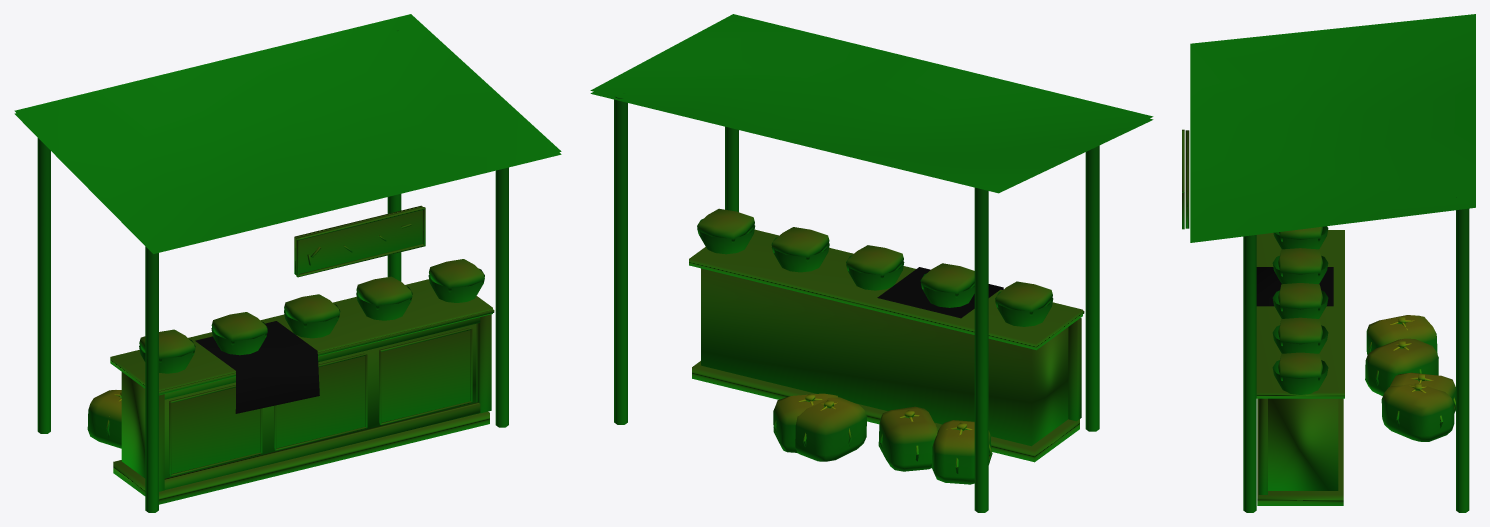
File: market_stall.glb
3 renders of one model, left to right at view 1: azimuth 30°, elevation 25°; view 2: azimuth 150°, elevation 25°; view 3: azimuth 270°, elevation 25°, orthographic. The views are drawn at different scales.
Visible parts, largest first — view 1: market_stall; view 2: market_stall; view 3: market_stall.
Part boxes in pixels (x1,y1,x2,y2): market_stall: [14, 14, 561, 512]; market_stall: [590, 14, 1153, 512]; market_stall: [1182, 14, 1475, 512].
Size of what is drawn, in the model's own units: 3.5 by 2.65 by 2.21.
